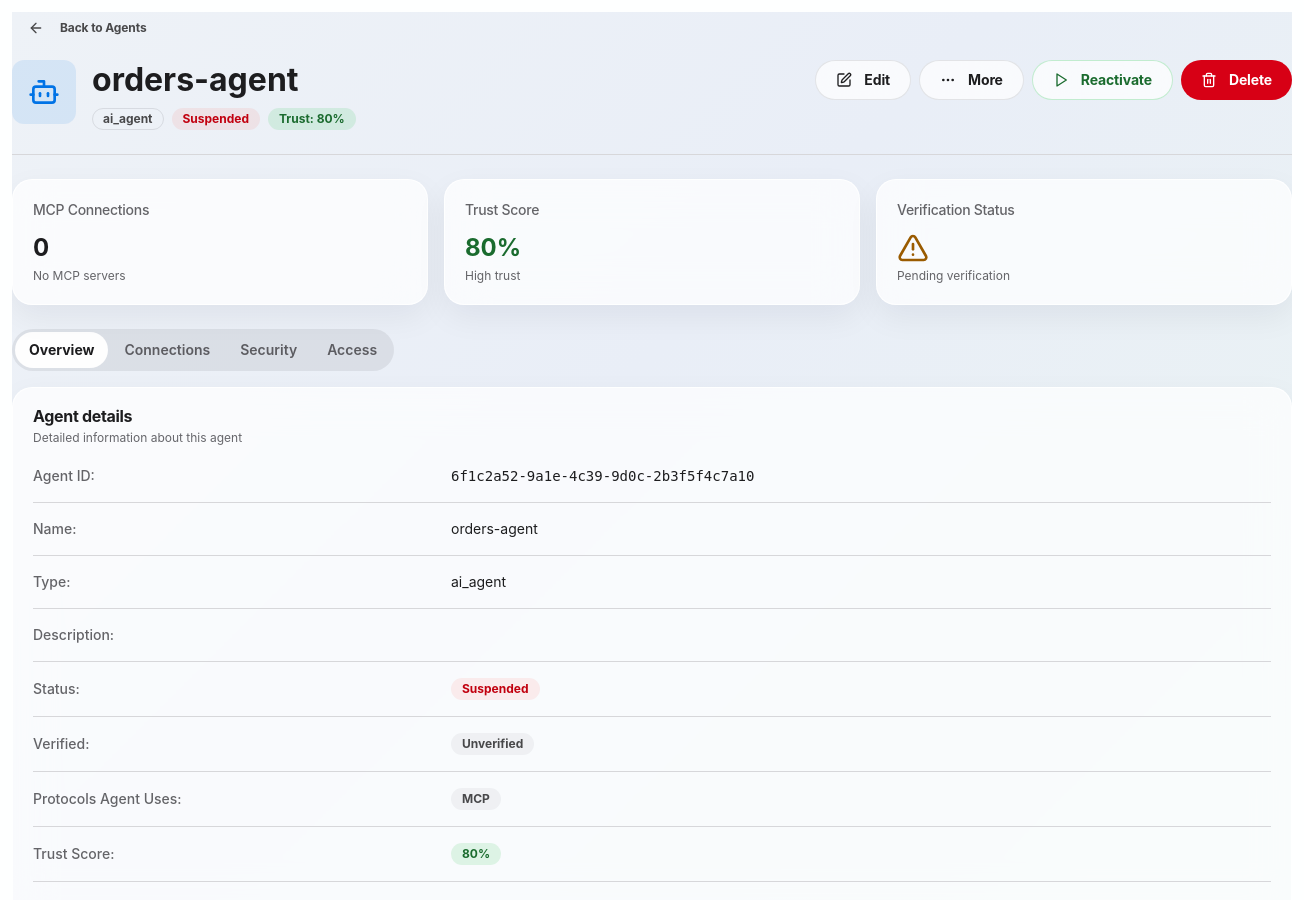
agent page lifecycle outcomes › states a refusal of the record path to reactivate this agent once, in a neutral alert beside the actions, with when to try again
The width and height of the screenshot is (1304, 900).
Click the button "Reactivate" at (1102, 80), box [1032, 60, 1173, 100]
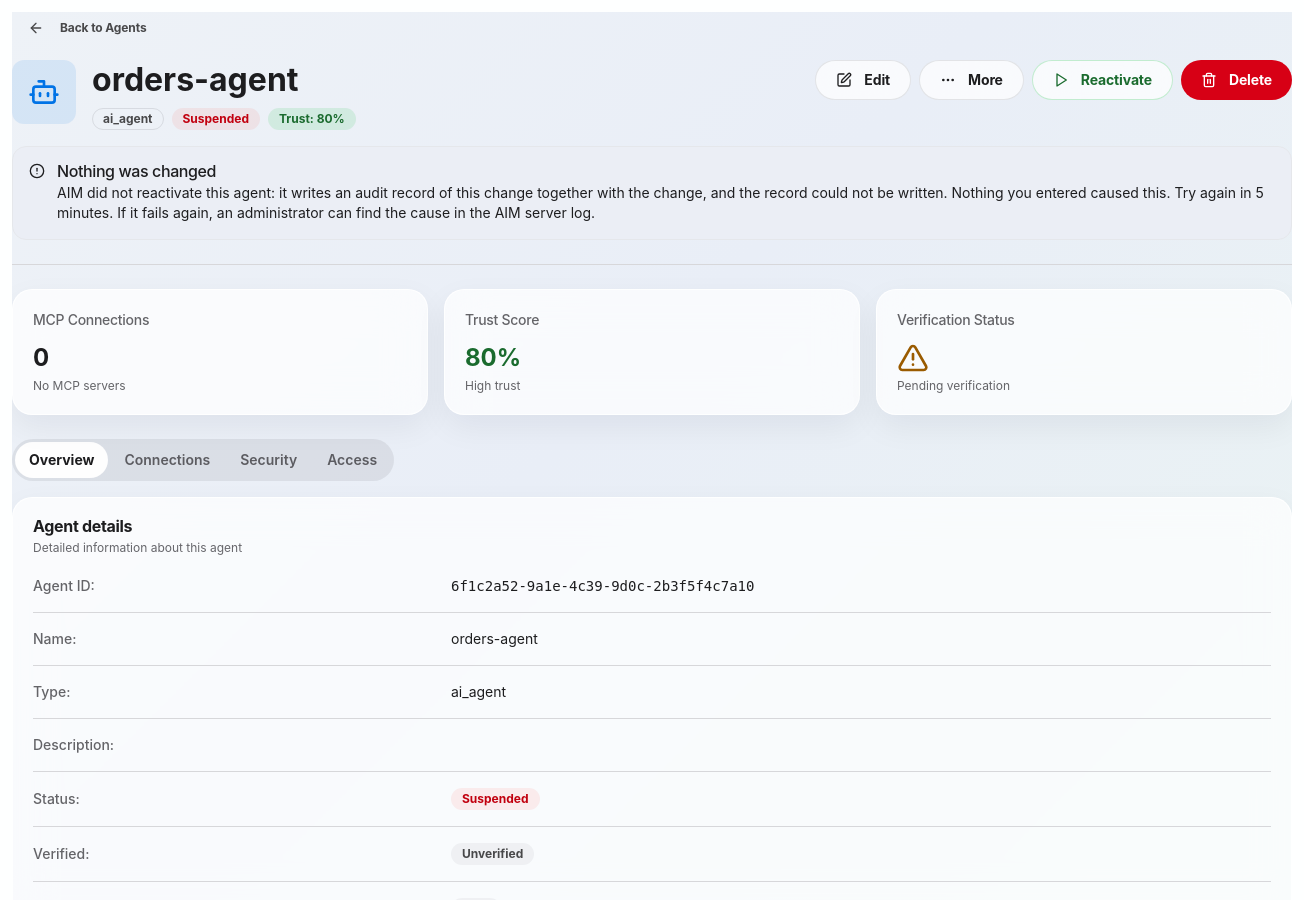
Check: the number of messages is 1, box [12, 146, 1292, 240]
Check: the heading "Nothing was changed" is shown, box [57, 161, 216, 181]
Check: the message shows "the record could not be written", box [57, 184, 1264, 221]
Click the button "Reactivate" at (1102, 80), box [1032, 60, 1173, 100]
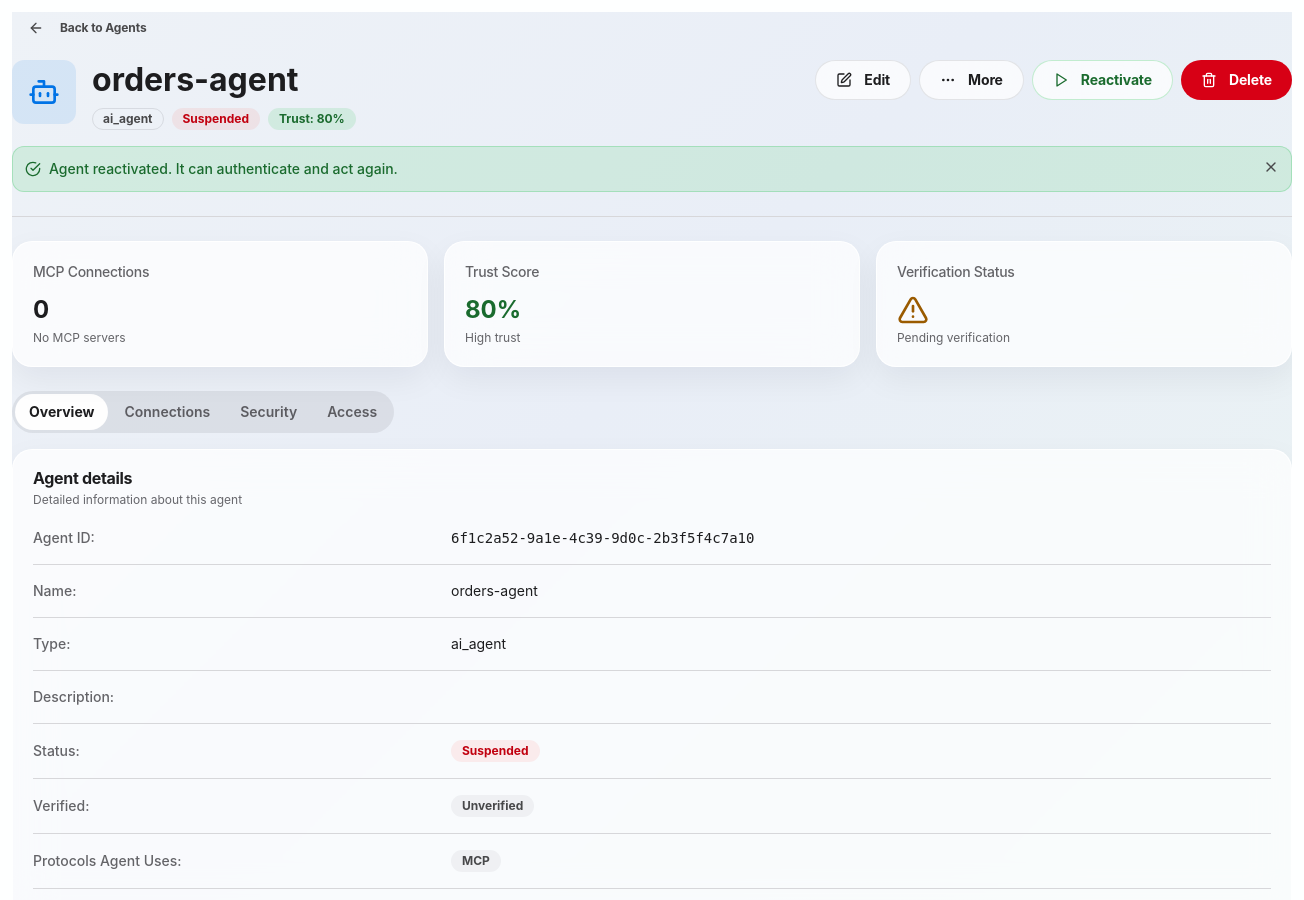
Check: the message "Agent reactivated. It can authenticate and act again." is shown, box [12, 146, 1292, 192]
